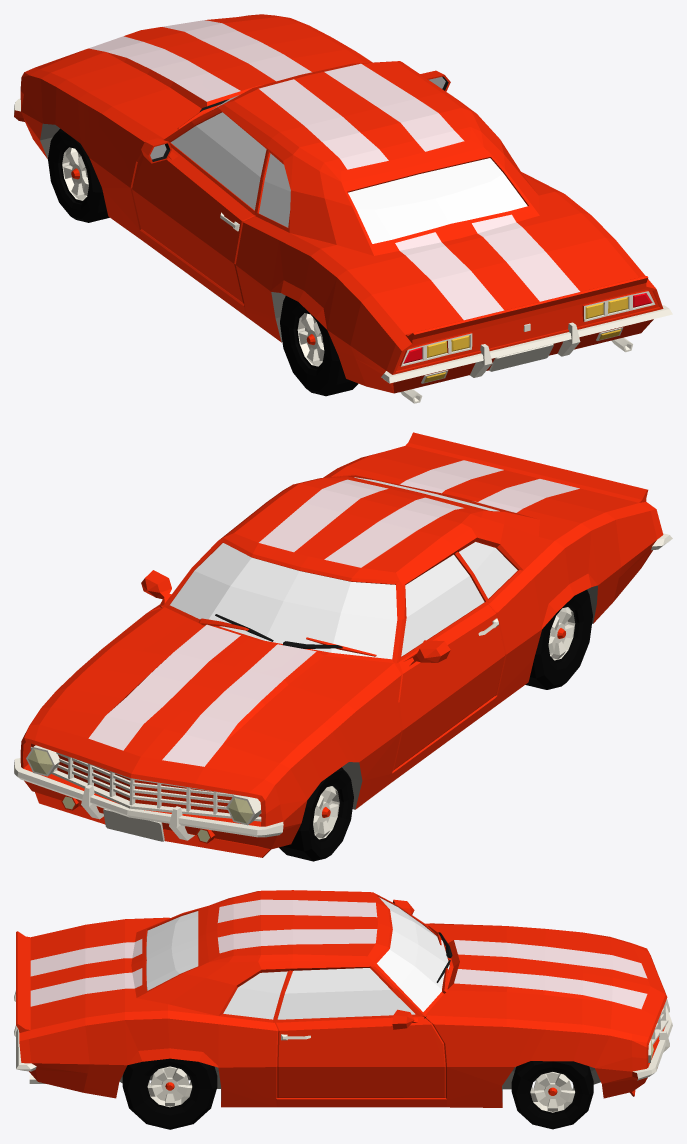
File: MuscleCar.fbx
3 renders of one model, top to bottom at view 1: azimuth 30°, elevation 25°; view 2: azimuth 150°, elevation 25°; view 3: azimuth 270°, elevation 25°, orthographic. The views are drawn at different scales.
Visible parts, largest first — view 1: Body, Glass, WheelBack_L, WheelFront_L, Plates; view 2: Body, Glass, WheelBack_L, WheelFront_L, Plates; view 3: Body, Glass, WheelBack_R, WheelFront_R.
Boxes of the visible parts, x1,y1,x2,y2 form: Body: [14, 14, 672, 403]; Glass: [171, 95, 527, 243]; WheelBack_L: [280, 296, 358, 396]; WheelFront_L: [48, 128, 109, 222]; Plates: [489, 344, 553, 371]; Body: [14, 432, 672, 857]; Glass: [170, 477, 517, 659]; WheelBack_L: [525, 589, 592, 689]; WheelFront_L: [279, 767, 353, 861]; Plates: [103, 808, 164, 841]; Body: [14, 890, 672, 1107]; Glass: [146, 897, 449, 1019]; WheelBack_R: [122, 1058, 217, 1129]; WheelFront_R: [511, 1061, 593, 1129].
Size of the model in its own units: 243 by 149 by 564.
